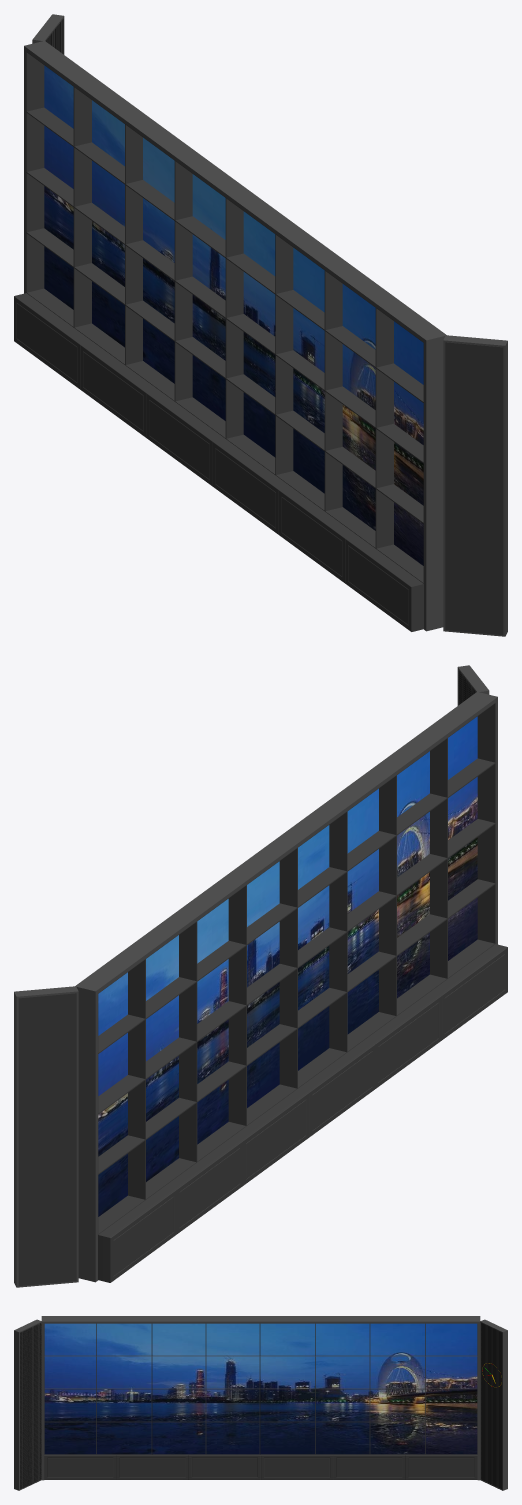
File: 大显示器.fbx
3 renders of one model, top to bottom at view 1: azimuth 30°, elevation 25°; view 2: azimuth 150°, elevation 25°; view 3: azimuth 270°, elevation 25°, orthographic. The views are drawn at different scales.
Visible parts, largest first — view 1: Rectangle626, Rectangle274908803, Rectangle629, Line1789530958, Line1789530959, Line1789530692, Line1789530957, Line1789530951, Line1789530955, Line1789530952, Line1789530953, Rectangle274908791 (+67 smaller); view 2: Rectangle274904115, Rectangle274908803, Rectangle274904114, Line1789530691, Line1789530955, Line1789530957, Line1789530951, Line1789530959, Line1789530692, Line1789530952, Rectangle274908790, Rectangle274908778 (+67 smaller); view 3: Rectangle274908803, Rectangle628, Rectangle274904115, Rectangle626, Rectangle627, Rectangle274904112, Rectangle274908757, Rectangle274908763, Rectangle2106775368, Rectangle2106775372, Rectangle274908789, Rectangle274908781 (+40 smaller).
Part boxes in pixels (left/top/right/bottom): Rectangle626: left=445, top=342, right=503, bottom=635; Rectangle274908803: left=24, top=41, right=446, bottom=631; Rectangle629: left=443, top=335, right=507, bottom=636; Line1789530958: left=345, top=535, right=423, bottom=631; Line1789530959: left=348, top=545, right=408, bottom=624; Line1789530692: left=17, top=303, right=77, bottom=382; Line1789530957: left=215, top=448, right=275, bottom=527; Line1789530951: left=83, top=351, right=143, bottom=430; Line1789530955: left=282, top=497, right=342, bottom=576; Line1789530952: left=149, top=400, right=209, bottom=479; Line1789530953: left=146, top=390, right=224, bottom=486; Rectangle274908791: left=275, top=415, right=324, bottom=511; Rectangle274904115: left=18, top=993, right=76, bottom=1285; Rectangle274908803: left=75, top=692, right=497, bottom=1282; Rectangle274904114: left=14, top=986, right=78, bottom=1287; Line1789530691: left=98, top=1186, right=176, bottom=1282; Line1789530955: left=378, top=1002, right=438, bottom=1081; Line1789530957: left=312, top=1051, right=372, bottom=1130; Line1789530951: left=179, top=1148, right=239, bottom=1227; Line1789530959: left=444, top=954, right=504, bottom=1033; Line1789530692: left=113, top=1196, right=173, bottom=1275; Line1789530952: left=246, top=1099, right=306, bottom=1178; Rectangle274908790: left=246, top=968, right=297, bottom=1065; Rectangle274908778: left=246, top=847, right=297, bottom=944; Rectangle274908803: left=41, top=1316, right=480, bottom=1480; Rectangle628: left=20, top=1324, right=41, bottom=1488; Rectangle274904115: left=481, top=1323, right=501, bottom=1488; Rectangle626: left=20, top=1323, right=40, bottom=1488; Rectangle627: left=20, top=1323, right=40, bottom=1488; Rectangle274904112: left=482, top=1323, right=501, bottom=1488; Rectangle274908757: left=96, top=1356, right=151, bottom=1388; Rectangle274908763: left=260, top=1356, right=315, bottom=1388; Rectangle2106775368: left=370, top=1356, right=425, bottom=1388; Rectangle2106775372: left=370, top=1389, right=425, bottom=1421; Rectangle274908789: left=260, top=1389, right=315, bottom=1421; Rectangle274908781: left=96, top=1389, right=151, bottom=1421.
Size of the model in its own units: 771 by 2911 by 8215.
Materials: 10 (1 with a texture image).
